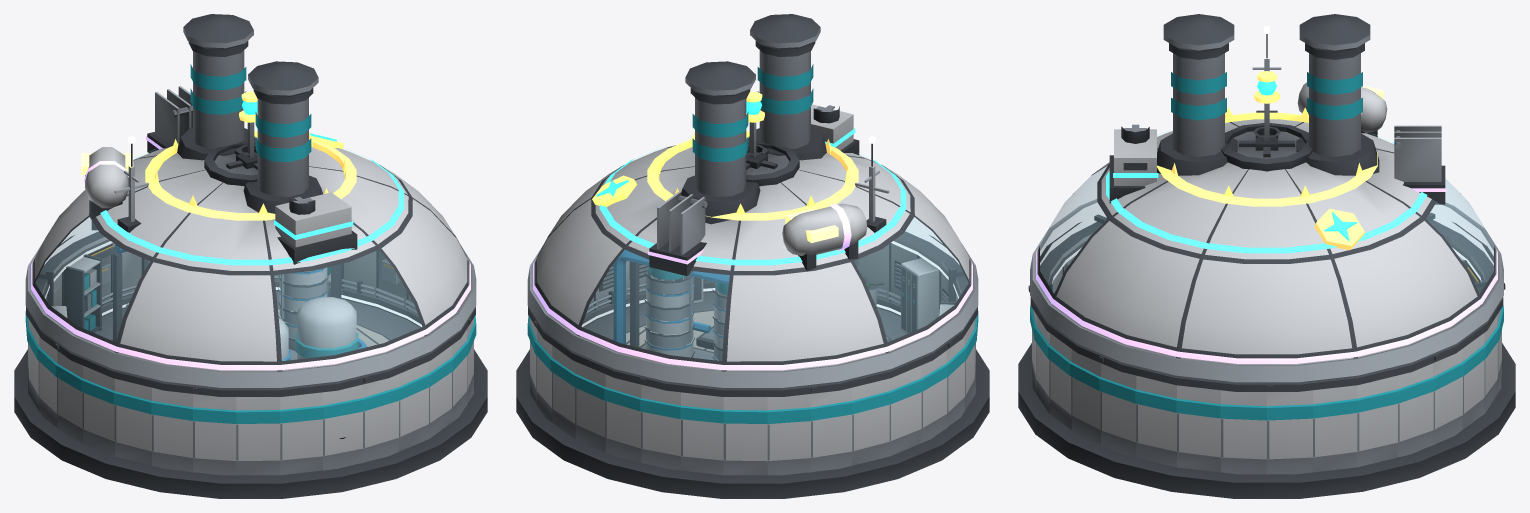
Rendered from oxygen_plant.glb.
3 renders of one model, left to right at view 1: azimuth 30°, elevation 25°; view 2: azimuth 150°, elevation 25°; view 3: azimuth 270°, elevation 25°, orthographic. The views are drawn at different scales.
Visible parts, largest first — view 1: Roof, Base, L2, L4, Interior, L3, L5, Wall_21, Wall_20, Wall_22, Wall_19, Wall_23 (+17 smaller); view 2: Roof, Base, L4, L2, Interior, L5, L3, Wall_10, Wall_11, Wall_09, Wall_12, Wall_08 (+16 smaller); view 3: Roof, Base, L2, L4, L5, L3, Wall_00, Wall_31, Wall_01, Wall_30, Wall_02, Wall_29 (+11 smaller).
Boxes of the visible parts, <box> form: Roof: <box>26,14,475,396</box>; Base: <box>14,291,487,498</box>; L2: <box>25,136,476,387</box>; L4: <box>31,86,470,370</box>; Interior: <box>113,244,367,360</box>; L3: <box>100,144,404,265</box>; L5: <box>145,91,356,220</box>; Wall_21: <box>236,397,280,475</box>; Wall_20: <box>192,387,236,475</box>; Wall_22: <box>280,392,323,475</box>; Wall_19: <box>151,387,192,472</box>; Wall_23: <box>323,384,363,470</box>; Roof: <box>528,14,977,396</box>; Base: <box>516,292,989,498</box>; L4: <box>533,191,972,370</box>; L2: <box>527,136,978,387</box>; Interior: <box>613,250,892,360</box>; L5: <box>592,91,858,220</box>; L3: <box>599,104,906,265</box>; Wall_10: <box>723,397,767,475</box>; Wall_11: <box>767,394,811,475</box>; Wall_09: <box>680,392,723,475</box>; Wall_12: <box>811,387,852,472</box>; Wall_08: <box>639,378,680,470</box>; Roof: <box>1030,14,1503,391</box>; Base: <box>1018,343,1515,498</box>; L2: <box>1030,26,1503,382</box>; L4: <box>1036,82,1497,363</box>; L5: <box>1157,71,1377,250</box>; L3: <box>1106,124,1427,253</box>; Wall_00: <box>1267,385,1313,474</box>; Wall_31: <box>1220,390,1266,474</box>; Wall_01: <box>1313,385,1357,472</box>; Wall_30: <box>1176,385,1220,472</box>; Wall_02: <box>1357,375,1398,467</box>; Wall_29: <box>1135,375,1176,467</box>.
Bounding box in the file's own units: 6.94 × 5.77 × 6.94.
